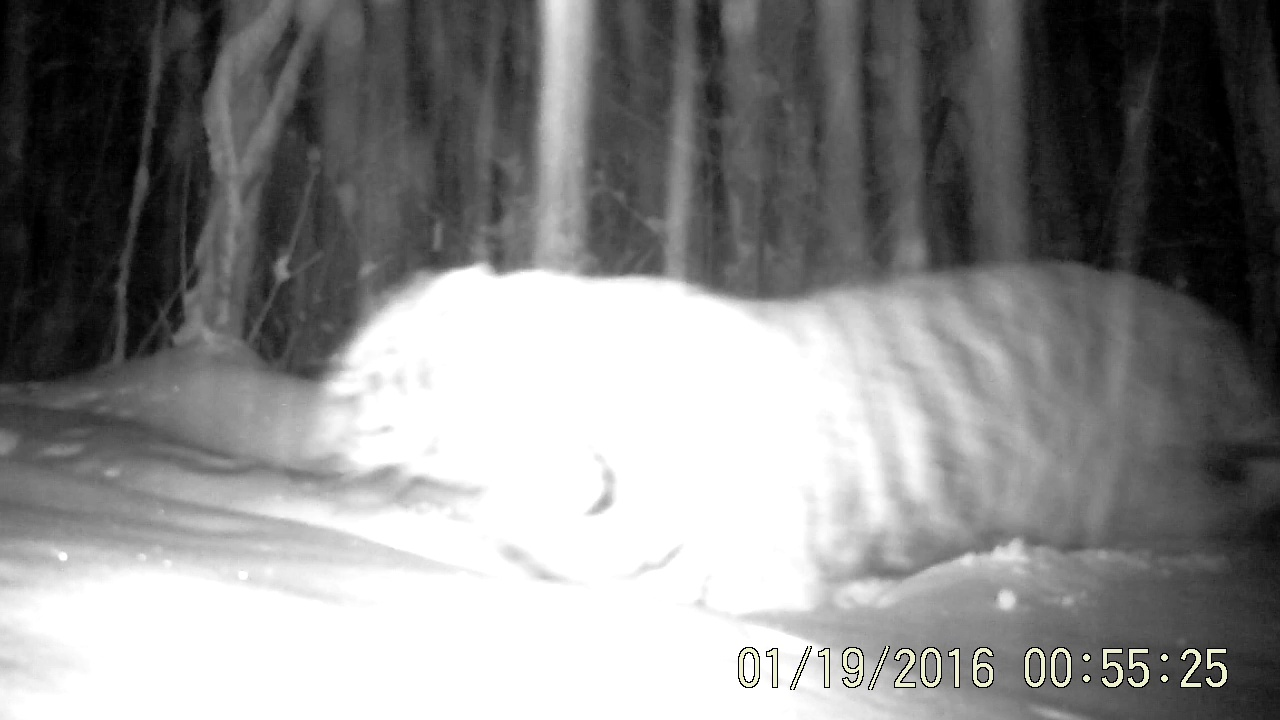Tiger: (299, 194, 1280, 624)
